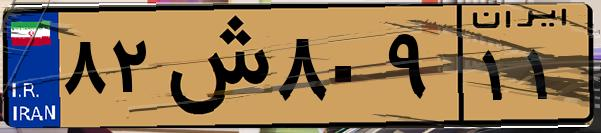0: (330, 28, 385, 110)
1: (475, 38, 525, 113), (525, 38, 570, 115)
2: (110, 28, 158, 98)
8: (270, 28, 330, 110), (57, 26, 110, 100)
9: (385, 28, 445, 110)
ش: (158, 12, 270, 120)
